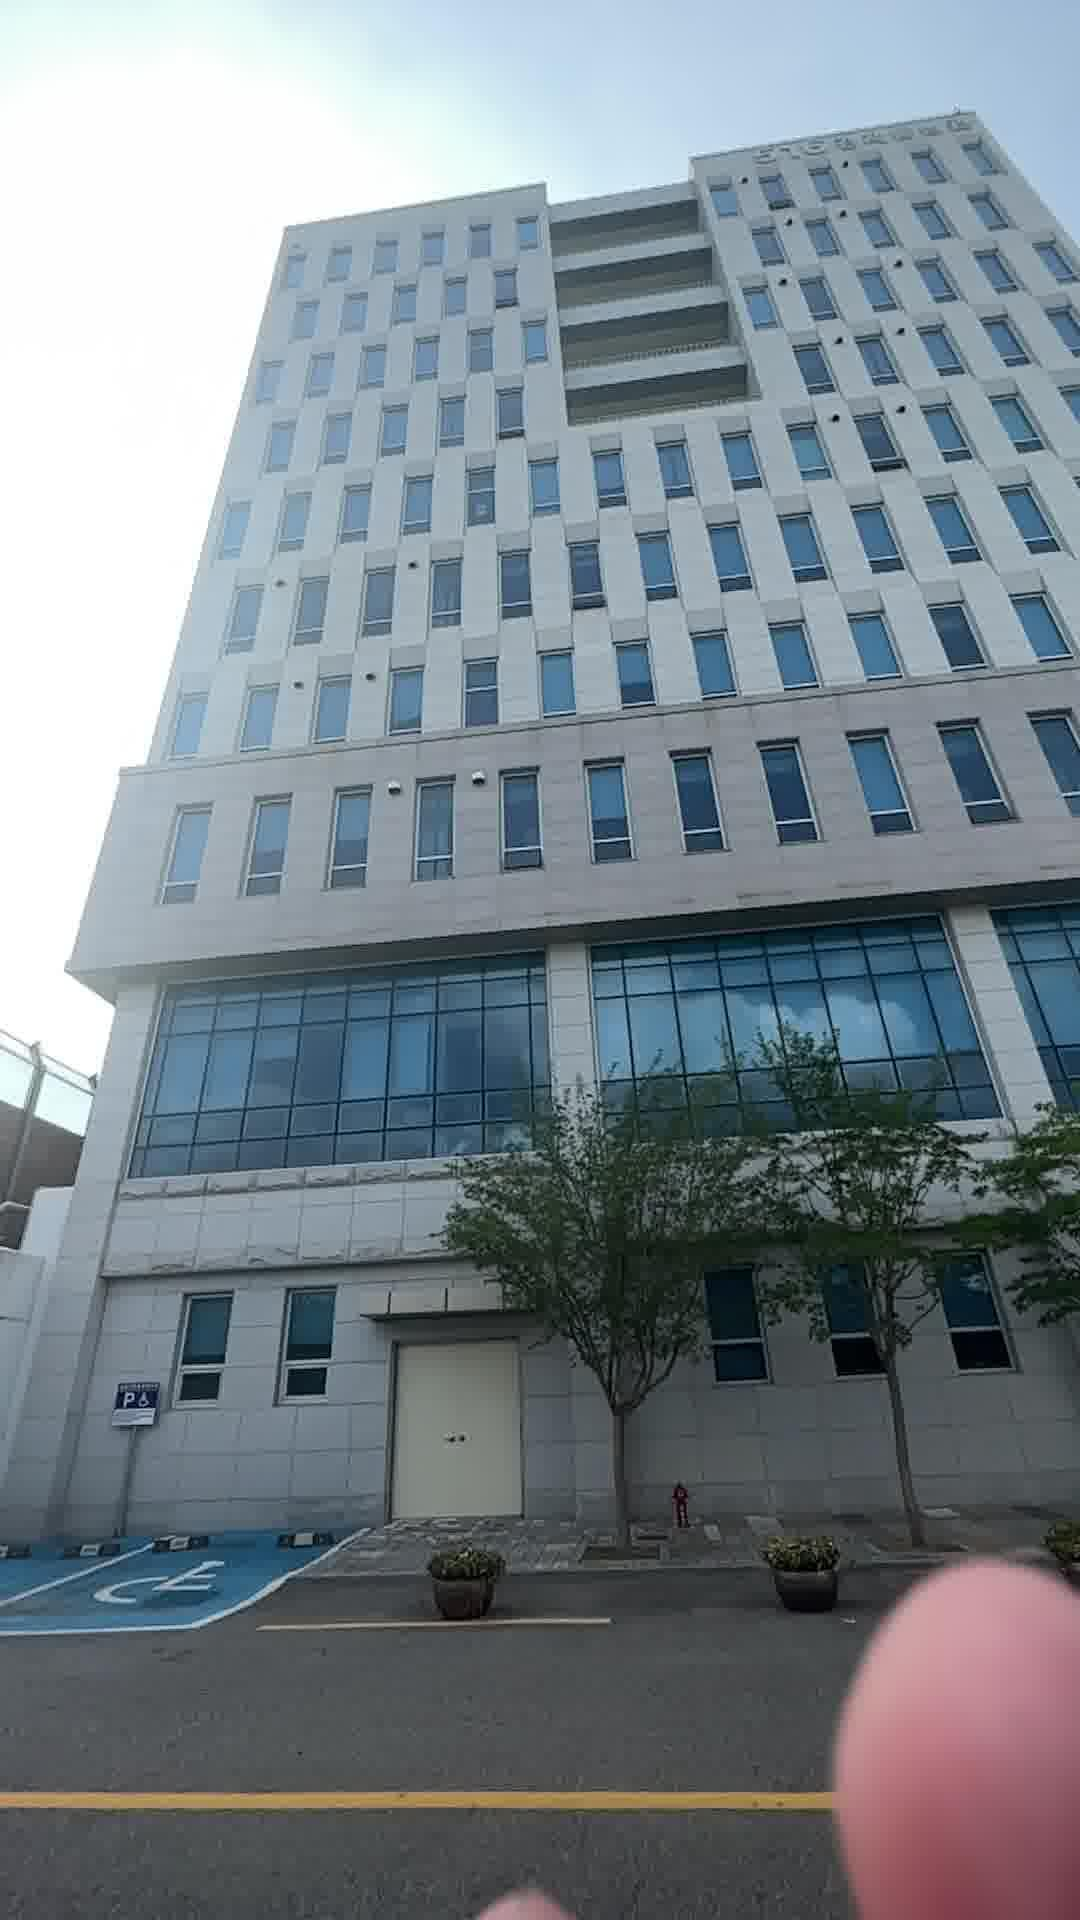building: (132, 100, 1080, 1052)
